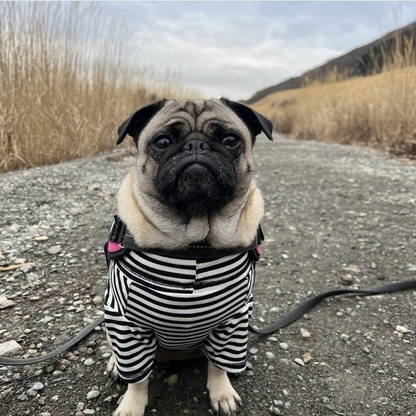Pug: (97, 89, 275, 416)
